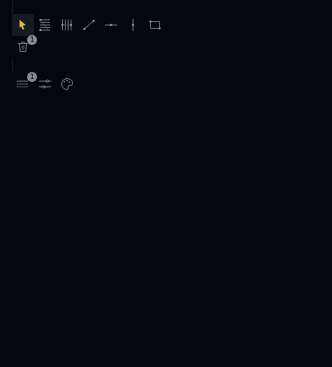
Test case: 对象树侧栏 + 搜索 + 组级开关(第 4 步) › 搜索无命中 → 空态文案说「没有匹配」,而不是「当前图上还没有对象」
Click the button named "对象树".
click(23, 84)  # box [12, 73, 34, 95]
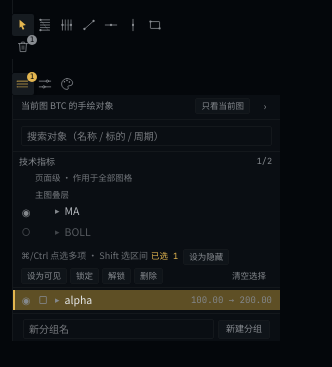
Type "zzz" into the field with test id "kf-dock-search" showing "搜索对象（名称 / 标的 / 周期）".
click(146, 136); type("zzz")  # box [21, 126, 272, 146]
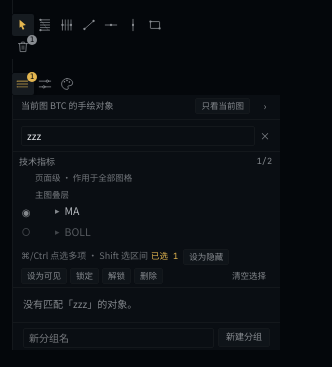
Result: the element named "对象树" shows "没有匹配「zzz」的对象。" at [23, 296, 137, 311]
